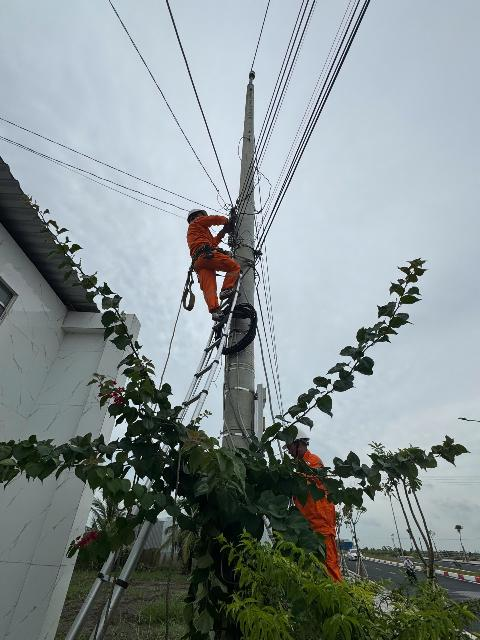gloves: (223, 213, 237, 234)
harness: (182, 239, 232, 263)
helmet: (278, 424, 310, 448), (185, 206, 208, 221)
shoes: (212, 288, 247, 299), (209, 308, 230, 323)
